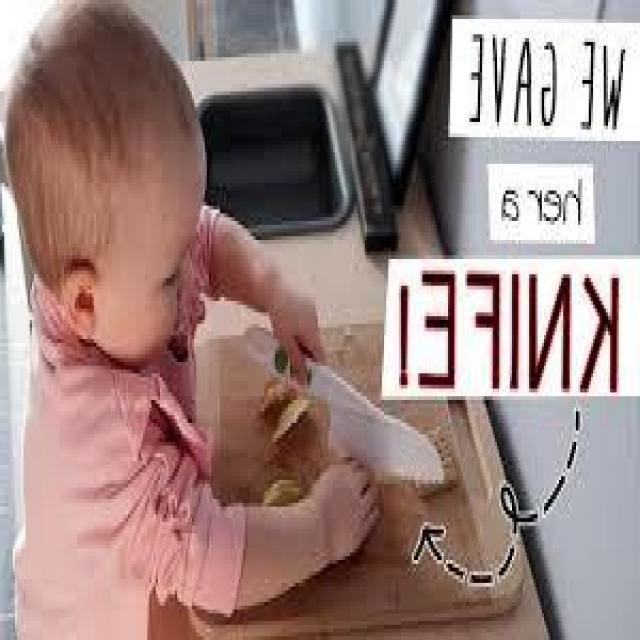child: (2, 4, 459, 637)
